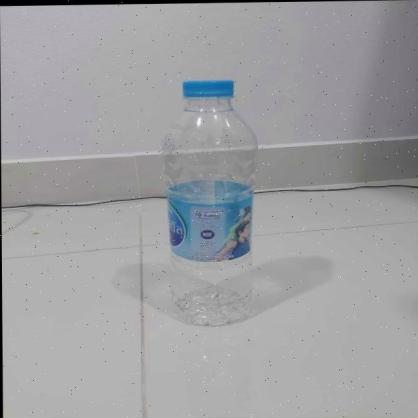bottle: (161, 77, 260, 325)
cap: (184, 78, 236, 100)
label: (165, 181, 256, 261)
